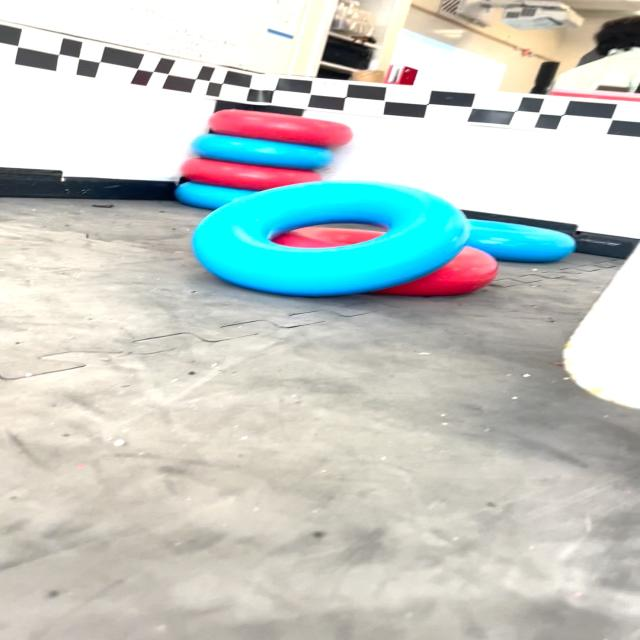Blue-Ring: (193, 181, 469, 296), (191, 134, 333, 170), (467, 219, 576, 262), (176, 181, 256, 210)
Red-Ring: (209, 109, 353, 146), (182, 159, 322, 191)
